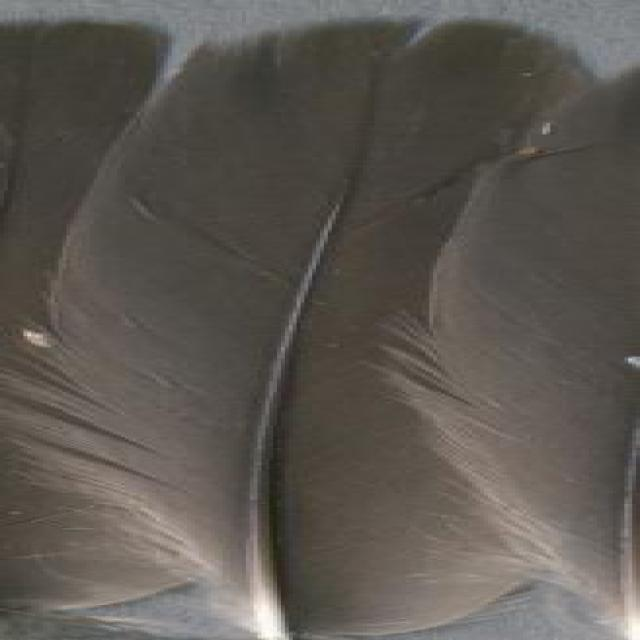feather: (27, 0, 605, 640)
